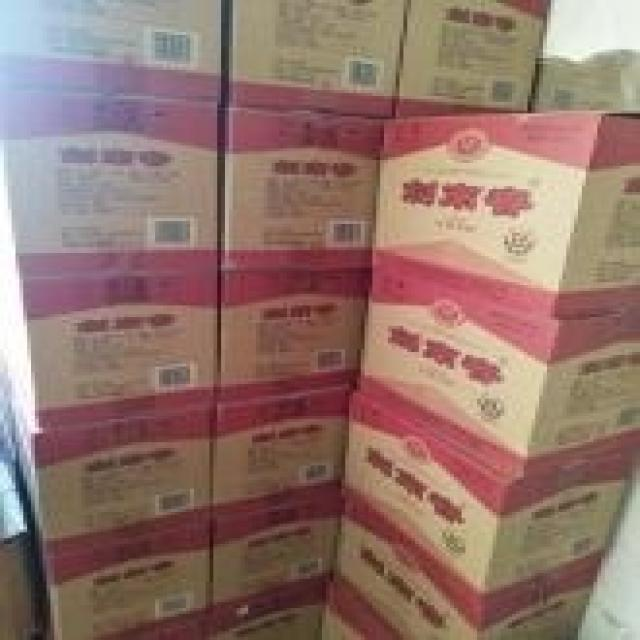box: (343, 384, 636, 603), (360, 268, 636, 475), (372, 111, 636, 319), (0, 85, 221, 277), (325, 496, 608, 637), (19, 273, 217, 426), (31, 402, 214, 551), (225, 104, 383, 268), (0, 0, 226, 102), (220, 267, 373, 402), (228, 3, 406, 116), (43, 522, 213, 637), (394, 0, 553, 118), (211, 386, 353, 516), (211, 495, 341, 625), (4, 426, 52, 637), (179, 598, 324, 637), (321, 601, 365, 637)
